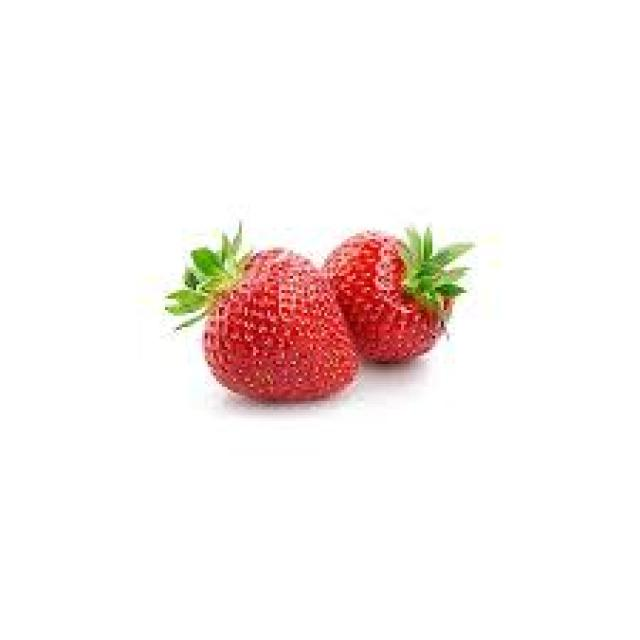strawberry: (174, 222, 362, 423), (314, 218, 465, 372)
